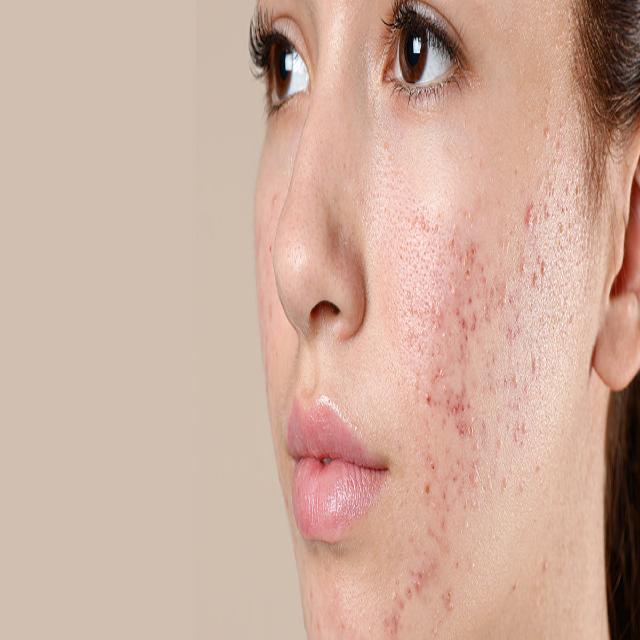Acne: (416, 197, 526, 465)
Englarged-Pores: (366, 156, 405, 332)
Oily-Skin: (265, 0, 567, 640)
